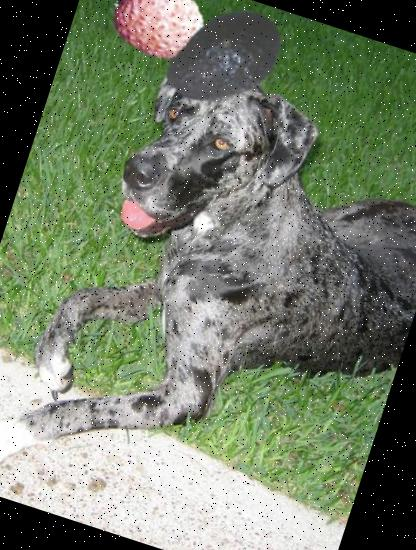Avocado: (147, 0, 299, 133)
Lychee: (101, 0, 219, 80)
